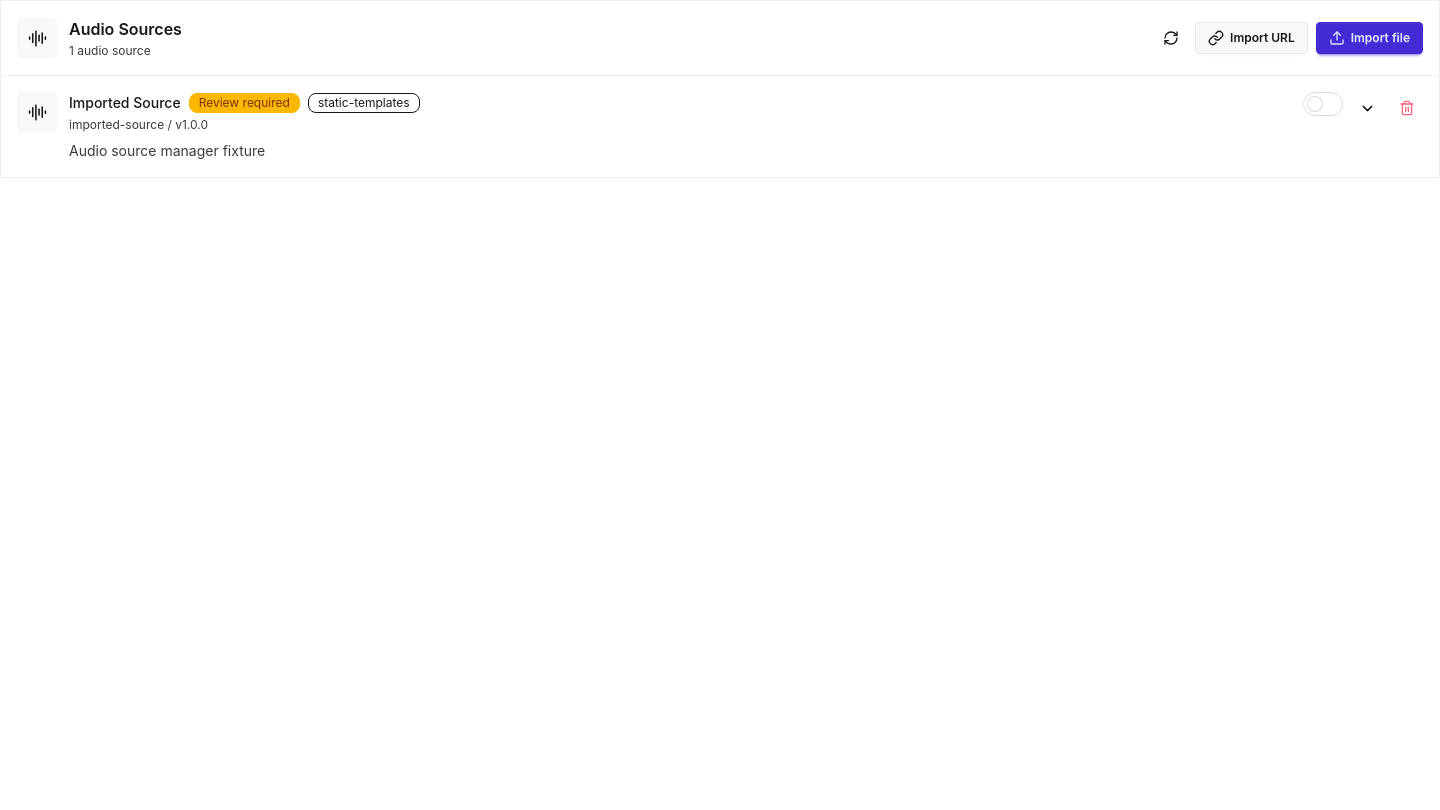
AudioSourceManager › renders local music as not checked without a synthetic latency
The image size is (1440, 810).
What coordinates should you click on to do the following:
click the button named "Inspect Imported Source"
I would click on:
 (1367, 108)
Its box is [1351,92,1383,124].
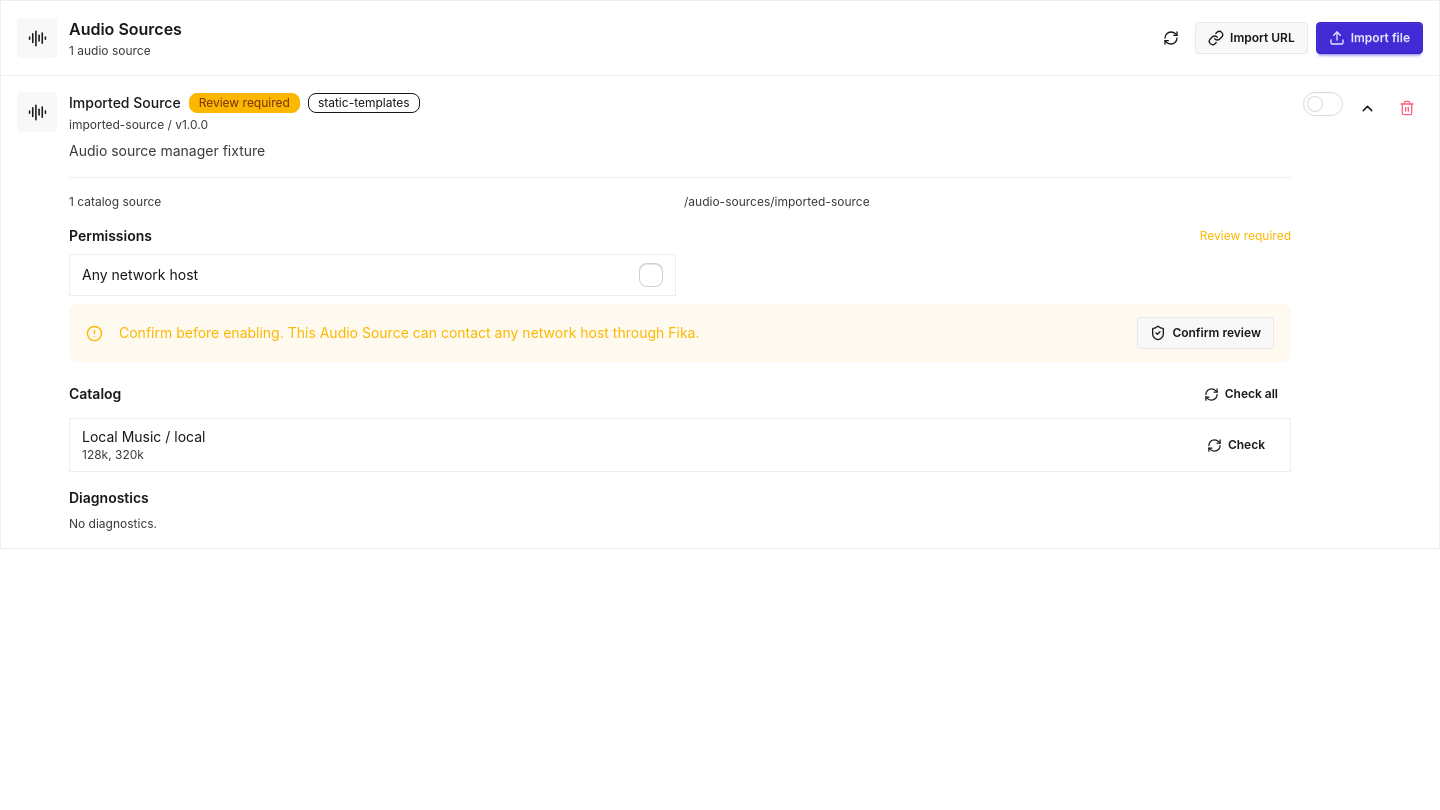
What coordinates should you click on to do the following:
click the button with aria-label "Check Local Music"
I would click on:
 (1236, 445)
Its box is [1194,429,1278,461].
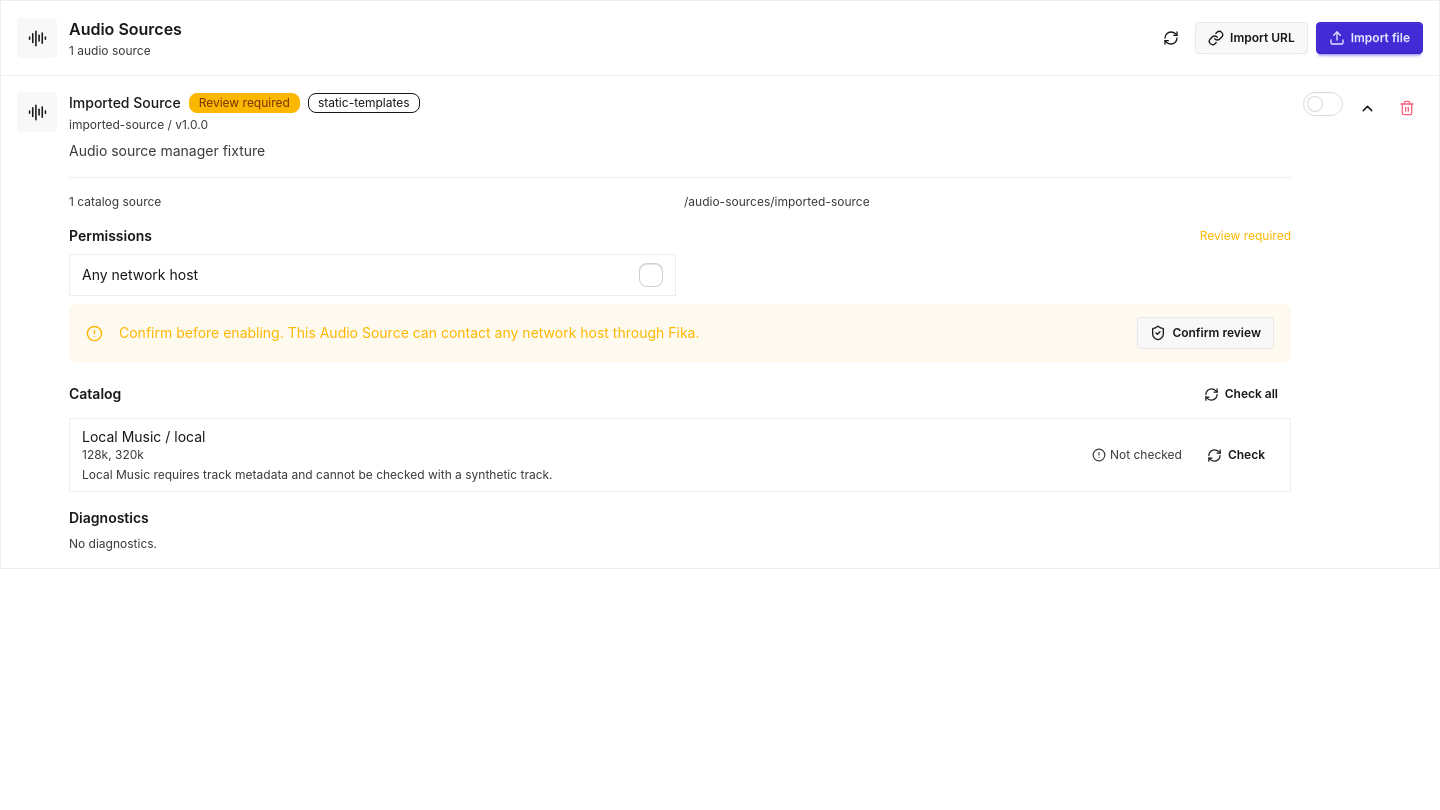
Expected: the text "Not checked" is shown, [1092,447,1182,463]
